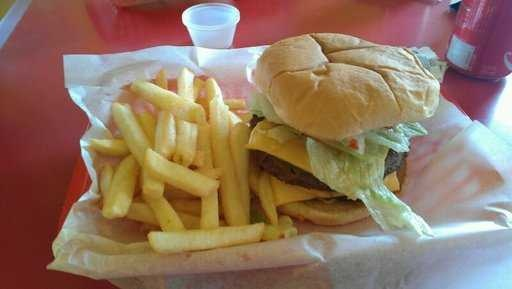hamburger: (230, 31, 443, 222)
